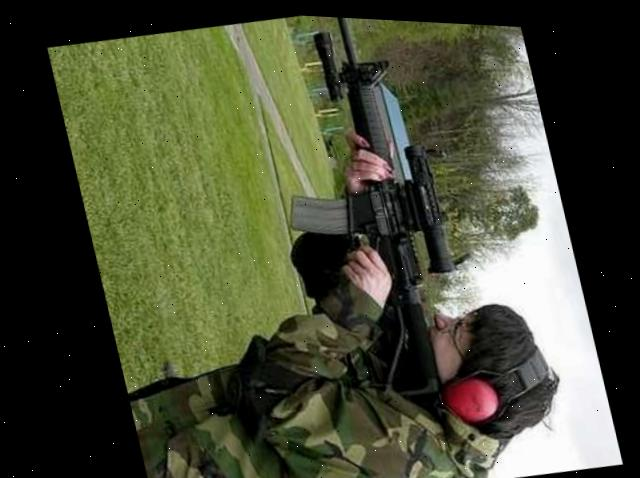rifle: (227, 9, 541, 415)
